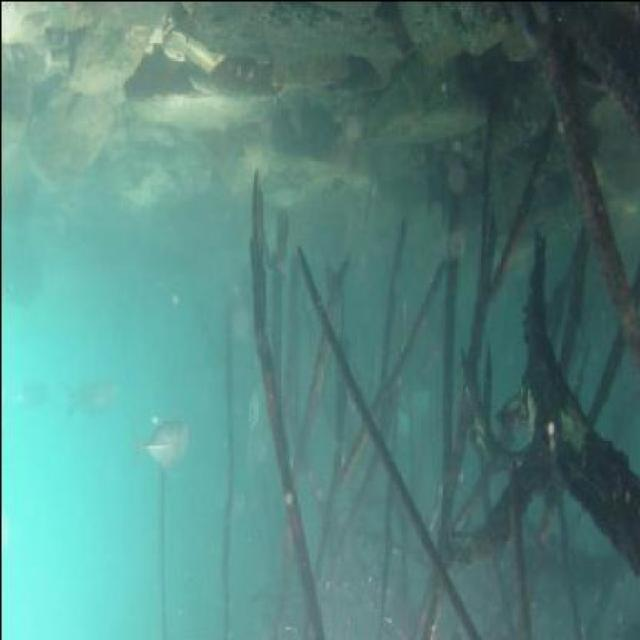Caranx_sexfasciatus_juvenile: (131, 397, 192, 474), (62, 361, 118, 422), (248, 362, 270, 427), (242, 418, 267, 472)
